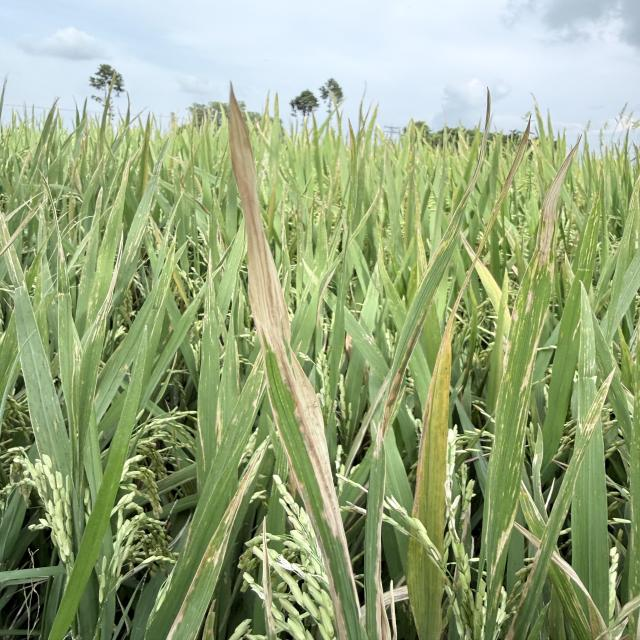Chay bia la: (230, 81, 351, 559)
